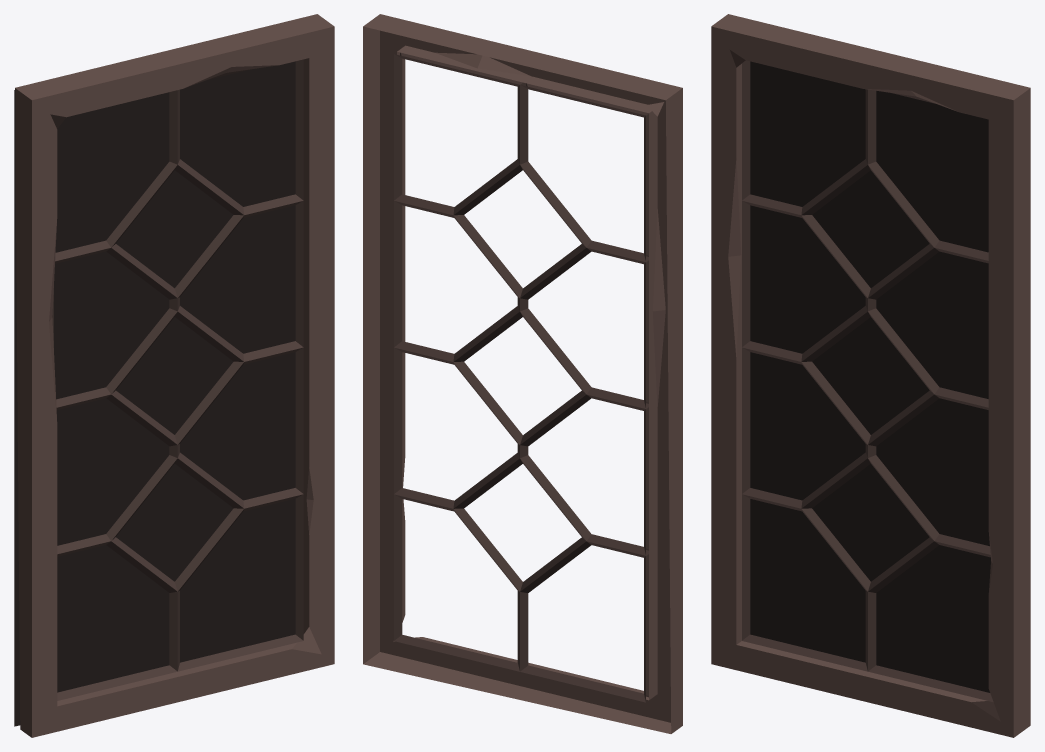
The model's file is SM_Env_Window_05.fbx.
3 views of the same model, side by side, from view 1: azimuth 30°, elevation 25°; view 2: azimuth 150°, elevation 25°; view 3: azimuth 330°, elevation 25° (orthographic).
Parts seen in each view (by area): view 1: SM_Env_Window_05; view 2: SM_Env_Window_05; view 3: SM_Env_Window_05.
Part boxes in pixels (x1=…): SM_Env_Window_05: x1=14, y1=14, x2=334, y2=737; SM_Env_Window_05: x1=363, y1=14, x2=682, y2=733; SM_Env_Window_05: x1=711, y1=14, x2=1030, y2=737.
Bounding box in the file's own units: 49.68 × 99.59 × 4.82.
1 material, 1 textured.
